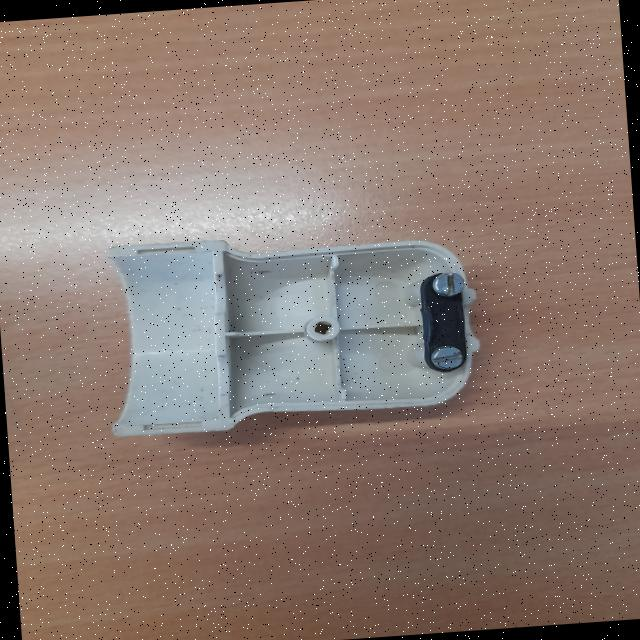Slotted: (429, 345, 464, 371), (433, 271, 466, 297)
